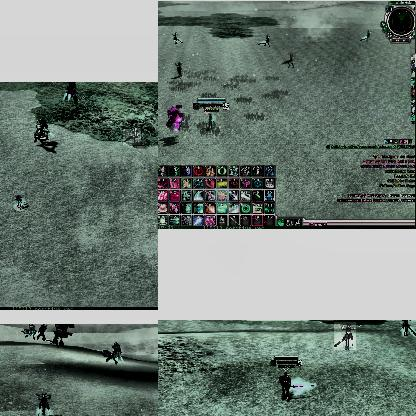caliana: (334, 322, 356, 350), (36, 393, 52, 416), (123, 129, 141, 145), (399, 320, 416, 335), (282, 54, 294, 68), (257, 35, 269, 47), (359, 30, 371, 42), (174, 61, 182, 77), (172, 32, 182, 44)
